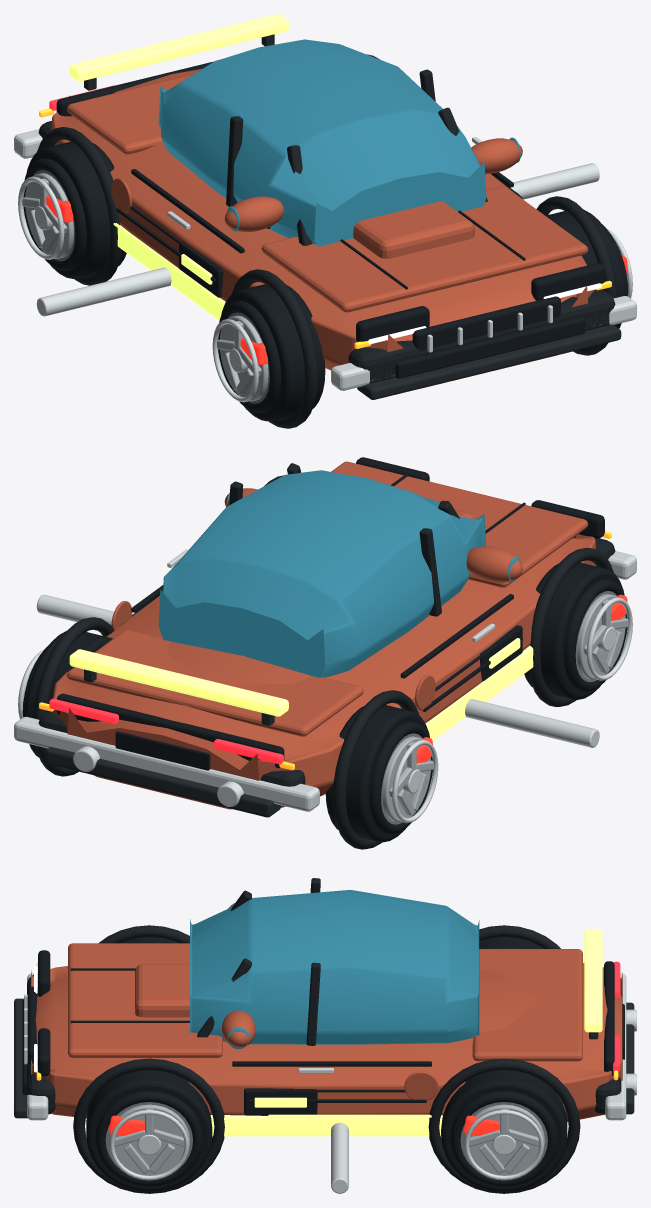
The model's file is classic.glb.
3 views of the same model, one above another, from view 1: azimuth 30°, elevation 25°; view 2: azimuth 150°, elevation 25°; view 3: azimuth 270°, elevation 25° (orthographic). The views are drawn at different scales.
Visible parts, largest first — view 1: continuous smoked glass cabin.006, sculpted one-piece body shell.006, front hood skin.006, left wheel tire.012, classic hood scoop, rear deck skin.006, rear spoiler blade.006, left wheel tire.013, front carbon splitter.006, front bumper fascia.006, lower front intake surround.006, upper front grille surround.006 (+24 smaller); view 2: continuous smoked glass cabin.006, sculpted one-piece body shell.006, rear deck skin.006, front hood skin.006, classic chrome rear bumper, left wheel tire.013, rear spoiler blade.006, left wheel tire.012, rear diffuser center.006, left rear fender arch bead.006, left front fender arch bead.006, left side exhaust (+23 smaller); view 3: continuous smoked glass cabin.006, sculpted one-piece body shell.006, front hood skin.006, rear deck skin.006, right wheel tire.012, right wheel tire.013, right aerodynamic side sill.006, right front fender arch bead.006, right rear fender arch bead.006, classic hood scoop, right tire sidewall bead.012, right tire sidewall bead.013 (+33 smaller).
Part boxes in pixels (<box>): continuous smoked glass cabin.006: <box>158,39,486,246</box>; sculpted one-piece body shell.006: <box>51,69,595,389</box>; front hood skin.006: <box>261,186,588,312</box>; left wheel tire.012: <box>221,284,325,421</box>; classic hood scoop: <box>353,201,474,258</box>; rear deck skin.006: <box>66,74,193,154</box>; rear spoiler blade.006: <box>69,14,288,81</box>; left wheel tire.013: <box>26,141,126,278</box>; front carbon splitter.006: <box>357,324,621,399</box>; front bumper fascia.006: <box>348,290,615,387</box>; lower front intake surround.006: <box>395,317,585,378</box>; upper front grille surround.006: <box>412,296,560,350</box>; continuous smoked glass cabin.006: <box>158,470,486,677</box>; sculpted one-piece body shell.006: <box>52,534,596,809</box>; rear deck skin.006: <box>66,629,363,736</box>; front hood skin.006: <box>331,461,588,587</box>; classic chrome rear bumper: <box>14,716,319,811</box>; left wheel tire.013: <box>325,705,429,842</box>; rear spoiler blade.006: <box>69,649,288,716</box>; left wheel tire.012: <box>524,562,624,699</box>; rear diffuser center.006: <box>45,747,280,817</box>; left rear fender arch bead.006: <box>332,690,419,849</box>; left front fender arch bead.006: <box>528,547,613,707</box>; left side exhaust: <box>465,699,599,747</box>; continuous smoked glass cabin.006: <box>190,890,479,1044</box>; sculpted one-piece body shell.006: <box>31,963,622,1121</box>; front hood skin.006: <box>68,943,222,1057</box>; rear deck skin.006: <box>472,949,582,1061</box>; right wheel tire.012: <box>86,1070,212,1191</box>; right wheel tire.013: <box>441,1070,567,1191</box>; right aerodynamic side sill.006: <box>210,1115,442,1136</box>; right front fender arch bead.006: <box>73,1058,224,1193</box>; right rear fender arch bead.006: <box>428,1058,580,1193</box>; classic hood scoop: <box>135,964,189,1017</box>; right tire sidewall bead.012: <box>95,1091,203,1186</box>; right tire sidewall bead.013: <box>450,1091,557,1186</box>.
Bounding box in the file's own units: 4.66 × 1.89 × 4.98.
